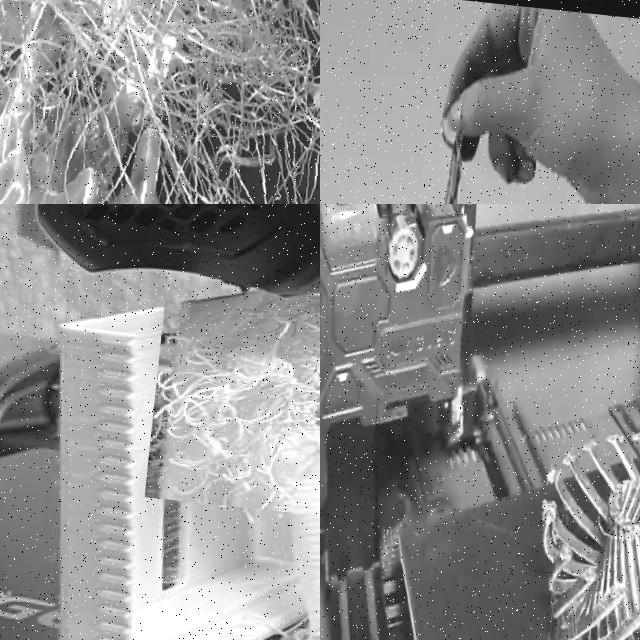spaghetti: (0, 0, 320, 204), (144, 250, 320, 527), (0, 555, 18, 621)
